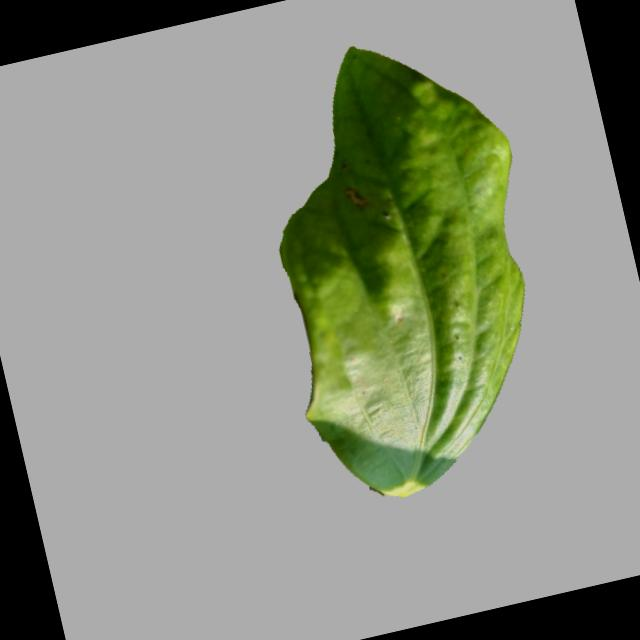yellow-mottle-virus: (226, 16, 597, 510)
